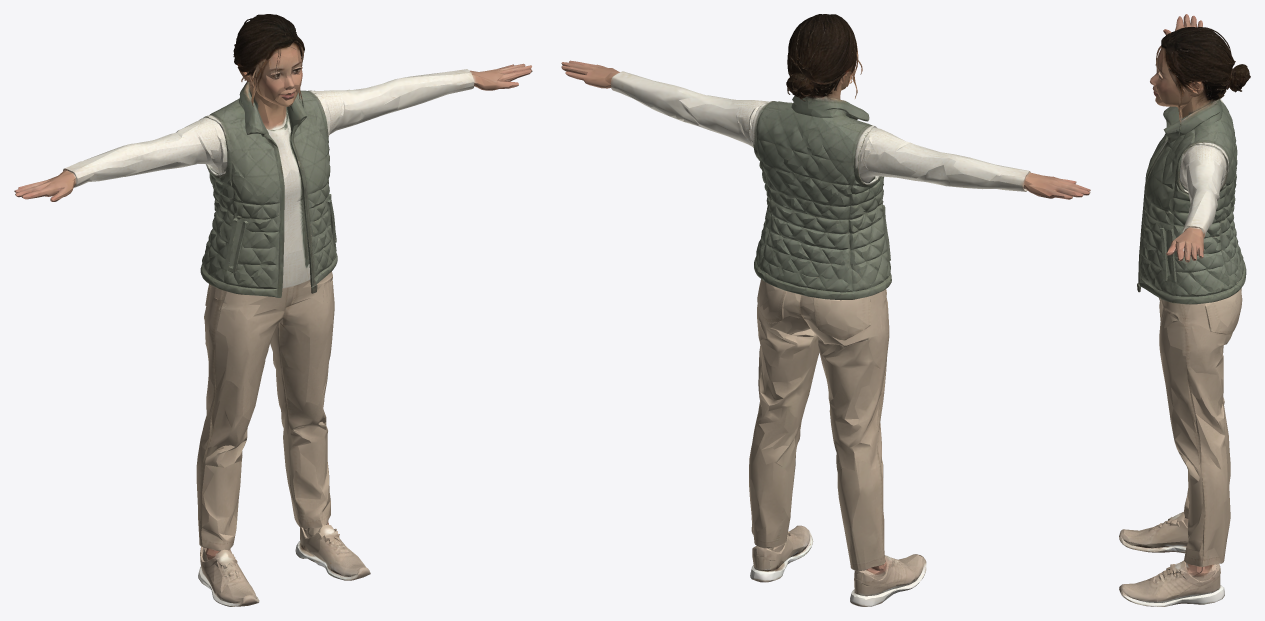
Rendered from character_n05_generated.glb.
3 renders of one model, left to right at view 1: azimuth 30°, elevation 25°; view 2: azimuth 150°, elevation 25°; view 3: azimuth 270°, elevation 25°, orthographic. The views are drawn at different scales.
Size of the model in its own units: 1.85 by 1.9 by 0.4162.
Materials: 1 (1 with a texture image).
